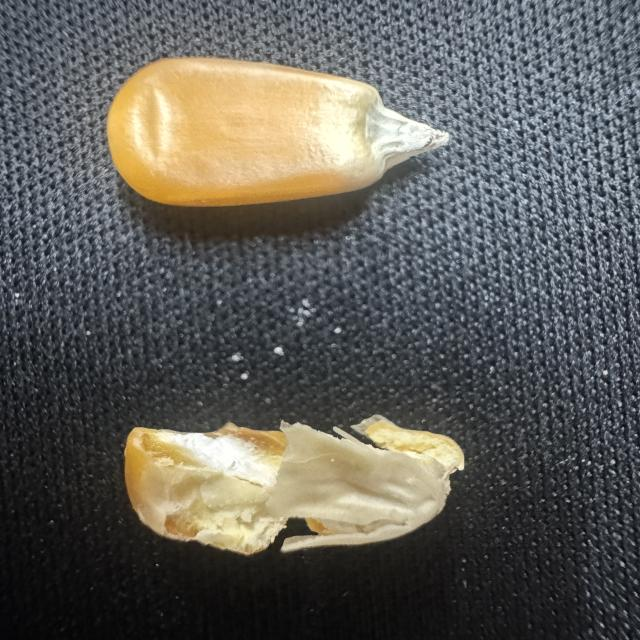Bad-Seed: (114, 400, 497, 564)
Good-Seed: (88, 53, 463, 224)
